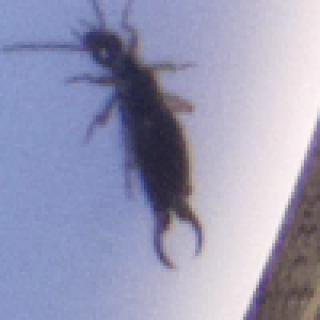earwig: (0, 0, 211, 272)
